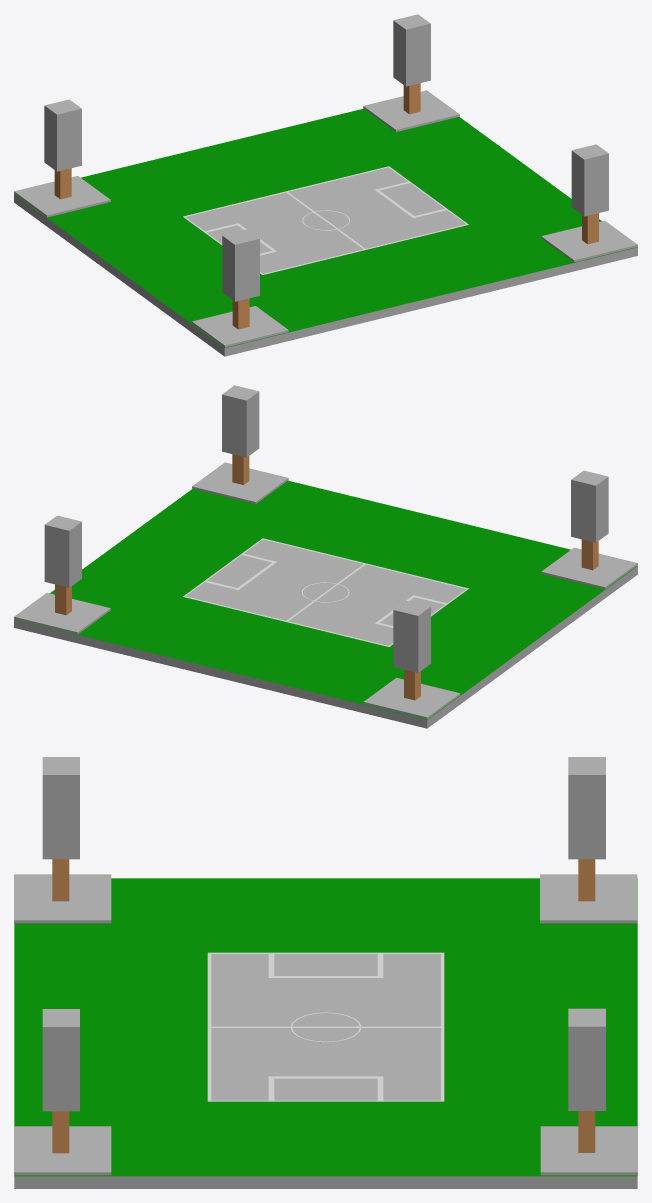
Rendered from sanASM.fbx.
3 renders of one model, top to bottom at view 1: azimuth 30°, elevation 25°; view 2: azimuth 150°, elevation 25°; view 3: azimuth 270°, elevation 25°, orthographic. The views are drawn at different scales.
Visible parts, largest first — view 1: polySurface30; view 2: polySurface30; view 3: polySurface30.
Part boxes in pixels (<box>): polySurface30: <box>14,14,637,356</box>; polySurface30: <box>14,385,637,728</box>; polySurface30: <box>14,757,637,1188</box>.
Bounding box in the file's own units: 62.85 × 14.55 × 55.59.
